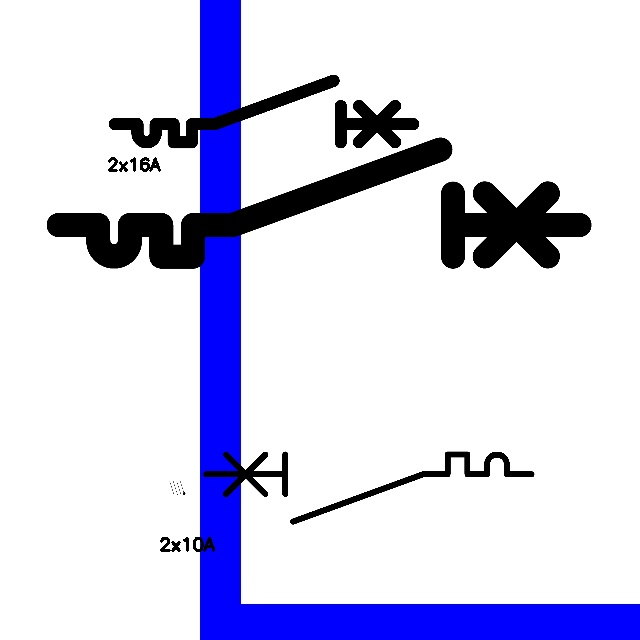interruptor_termomagnetico: (45, 136, 593, 270), (197, 446, 540, 530), (107, 73, 420, 150)
